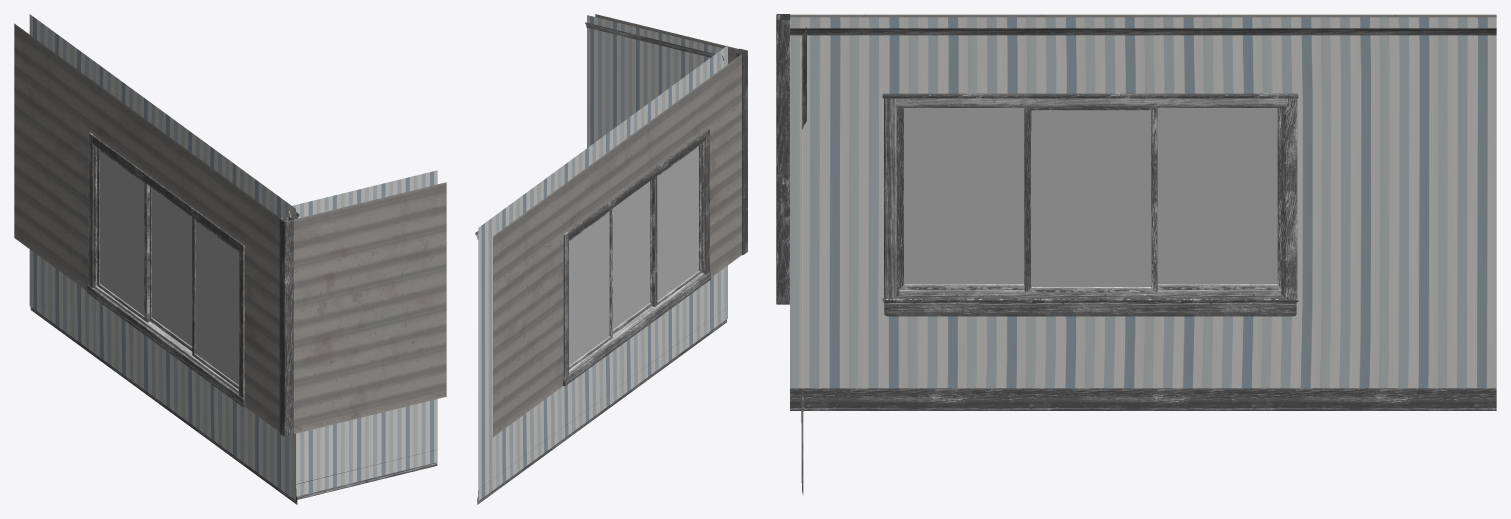
Rendered from SM_Corner_2Floor_C1_400.fbx.
The picture shows the model from 3 angles, left to right: view 1: azimuth 30°, elevation 25°; view 2: azimuth 150°, elevation 25°; view 3: azimuth 270°, elevation 25°; orthographic projection. The views are drawn at different scales.
Visible parts, largest first — view 1: SM_Corner_2Floor_C1_400_LOD0; view 2: SM_Corner_2Floor_C1_400_LOD0; view 3: SM_Corner_2Floor_C1_400_LOD0.
Part boxes in pixels (x1=…): SM_Corner_2Floor_C1_400_LOD0: x1=14, y1=14, x2=446, y2=504; SM_Corner_2Floor_C1_400_LOD0: x1=475, y1=14, x2=747, y2=504; SM_Corner_2Floor_C1_400_LOD0: x1=776, y1=14, x2=1496, y2=494.
Size of the model in its own units: 149 by 428 by 258.
5 materials, 4 textured.
